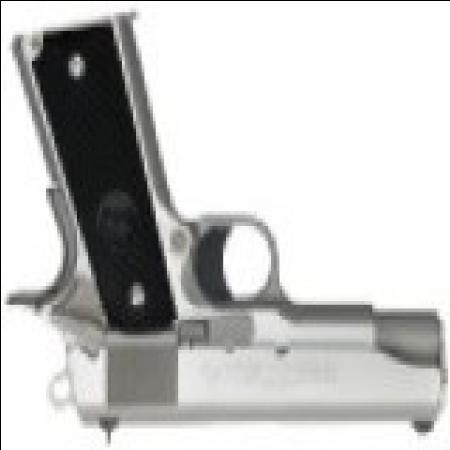Pistol: (12, 15, 445, 443)
